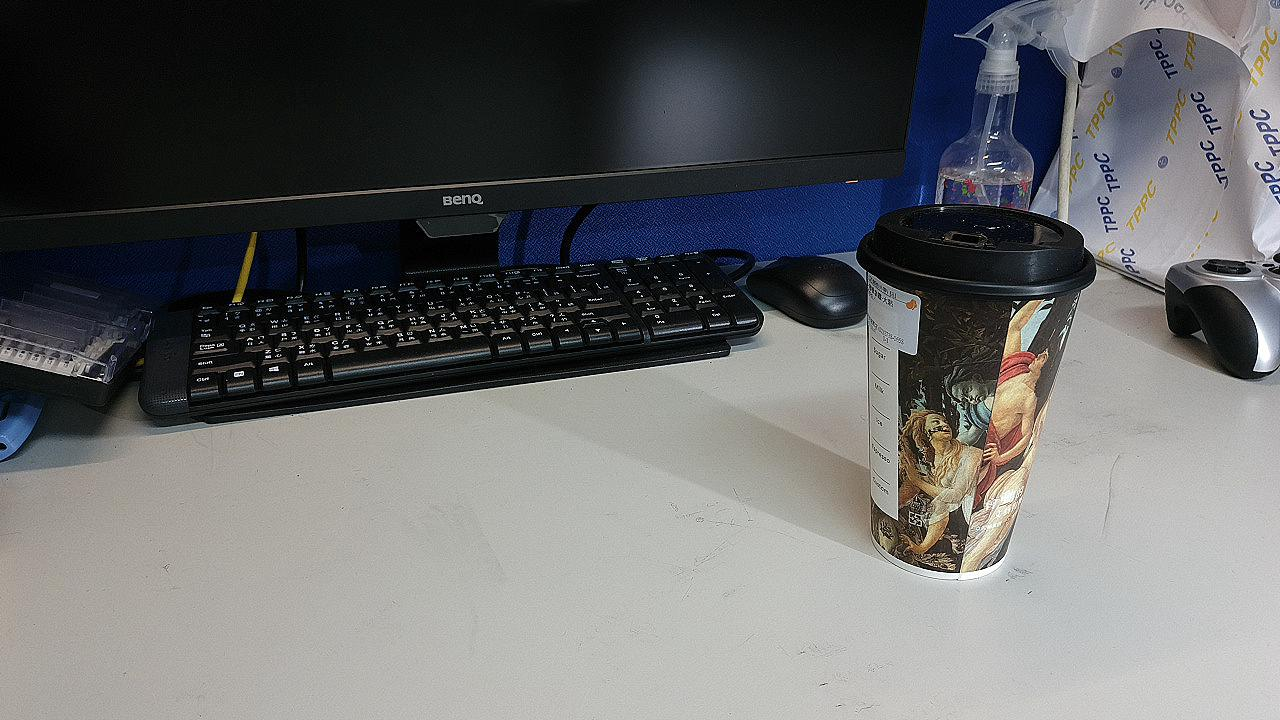long: (600, 330, 726, 431)
